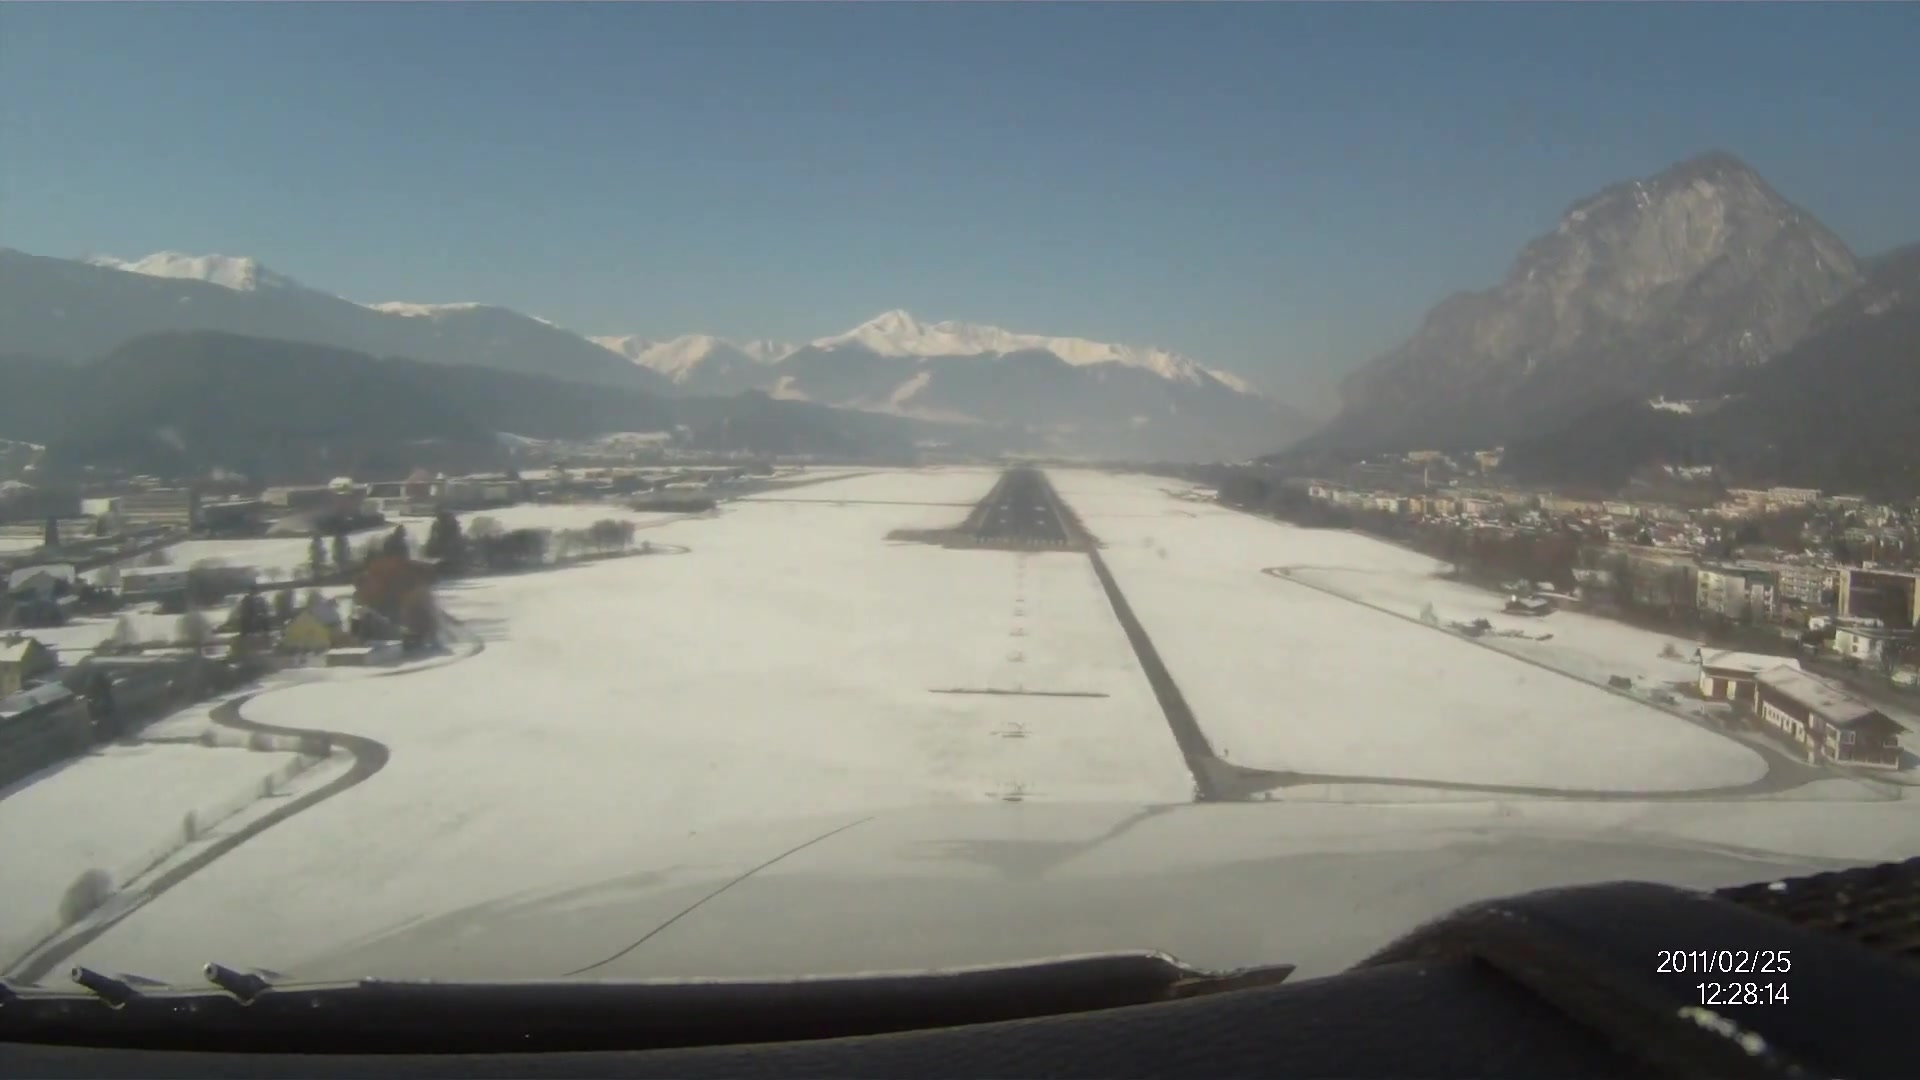entrance: (973, 534, 1069, 549)
runway: (967, 467, 1071, 549)
